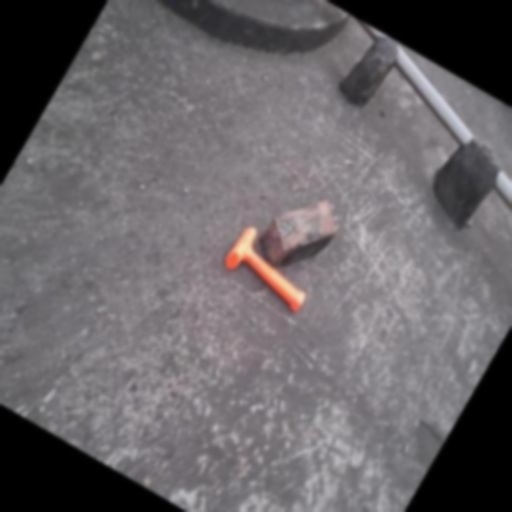mallet: (222, 224, 324, 314)
